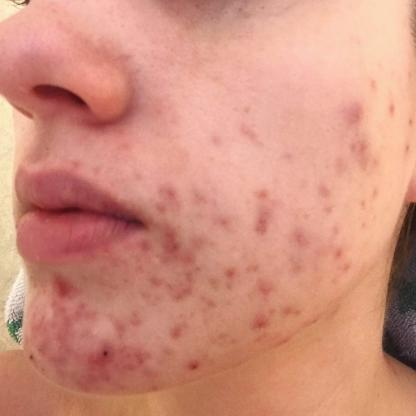Acne: (94, 337, 115, 373), (186, 354, 206, 383)
